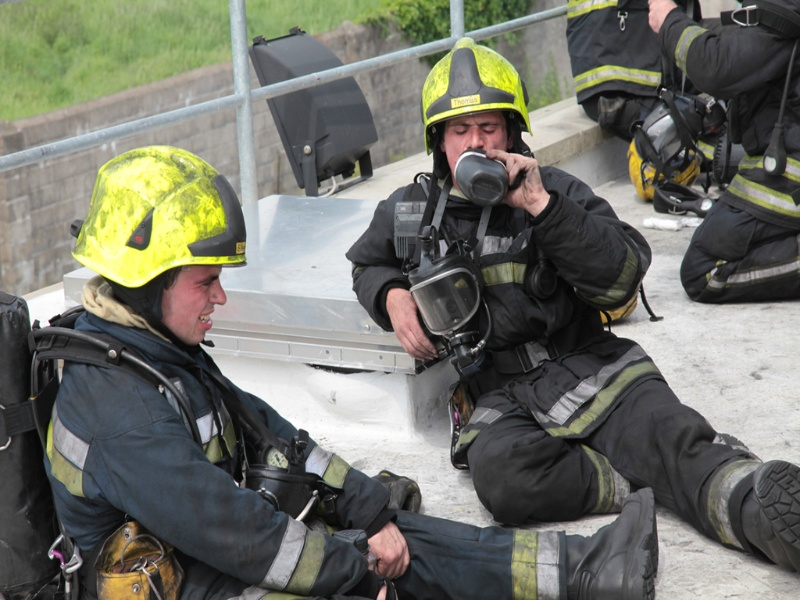helmet: (74, 144, 248, 281), (421, 38, 529, 126)
